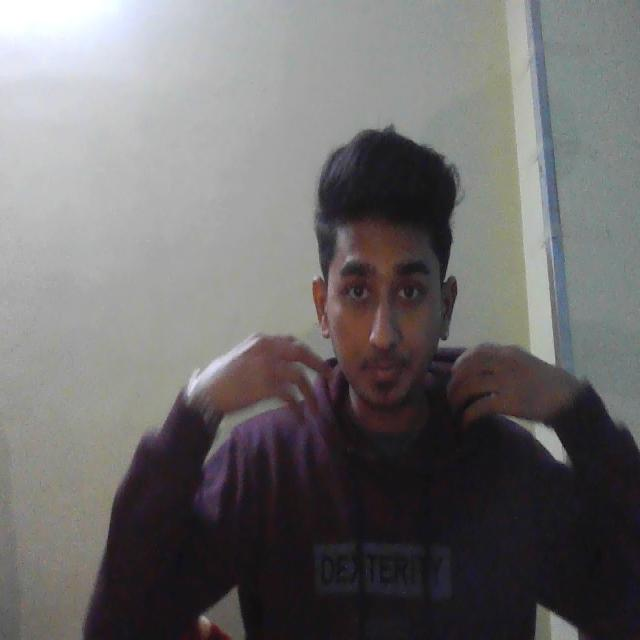real: (309, 143, 463, 434)
